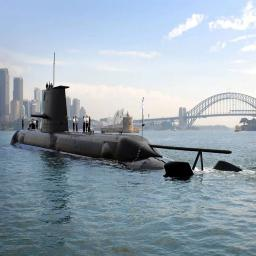submarine: (10, 46, 246, 183)
